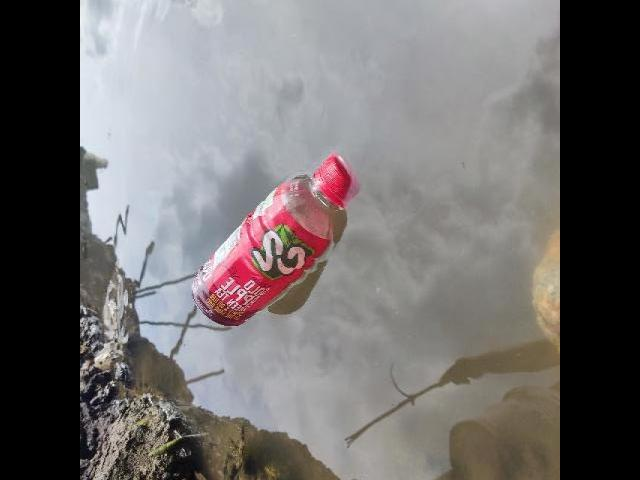Bottle: (188, 153, 352, 329)
